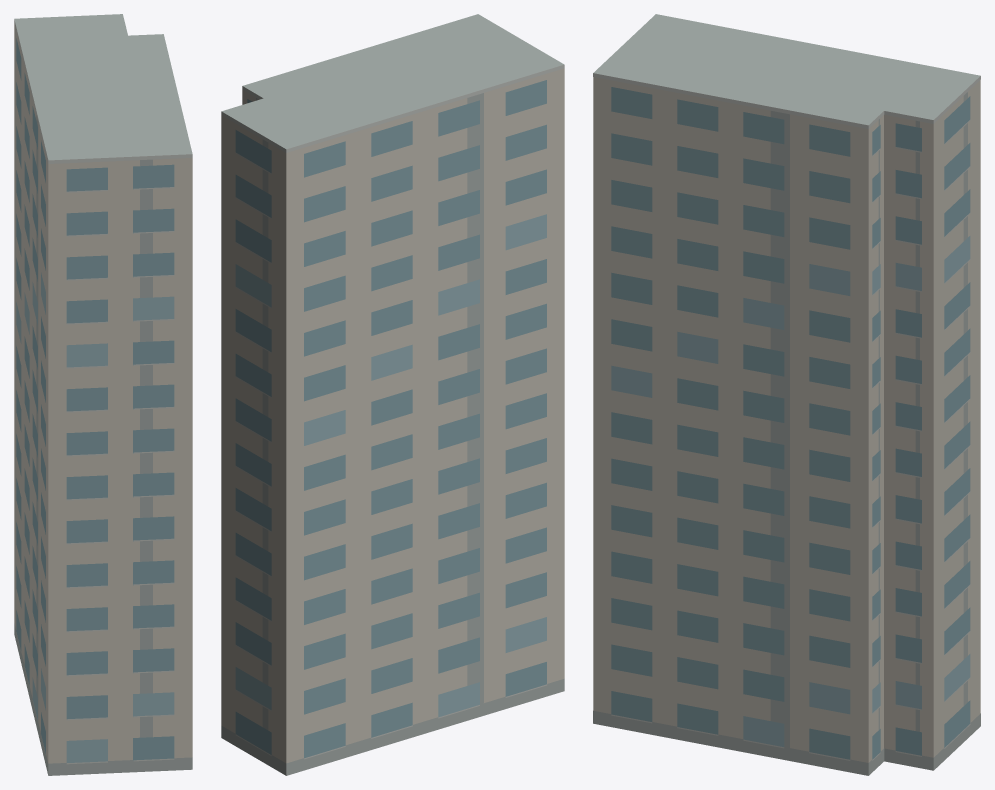
File: residential-e3764f81-8dee-4281-8ff9-089467275e71.glb
3 renders of one model, left to right at view 1: azimuth 30°, elevation 25°; view 2: azimuth 150°, elevation 25°; view 3: azimuth 270°, elevation 25°, orthographic. The views are drawn at different scales.
Parts seen in each view (by area): view 1: residential-e3764f81-8dee-4281-8ff9-089467275e71.tmp; view 2: residential-e3764f81-8dee-4281-8ff9-089467275e71.tmp; view 3: residential-e3764f81-8dee-4281-8ff9-089467275e71.tmp.
Boxes of the visible parts, x1,y1,x2,y2 form: residential-e3764f81-8dee-4281-8ff9-089467275e71.tmp: (14, 14, 192, 775); residential-e3764f81-8dee-4281-8ff9-089467275e71.tmp: (221, 14, 564, 775); residential-e3764f81-8dee-4281-8ff9-089467275e71.tmp: (593, 14, 980, 775).
Bounding box in the file's own units: 15.06 × 41 × 22.15.
